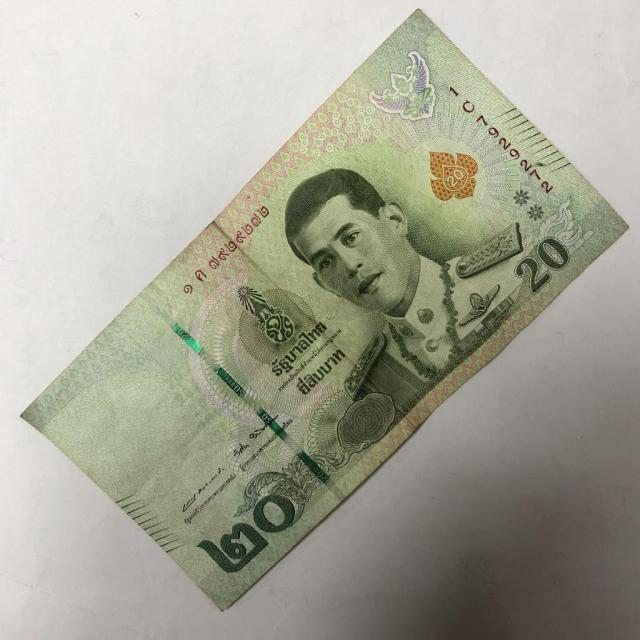THAI20: (22, 9, 628, 609)
